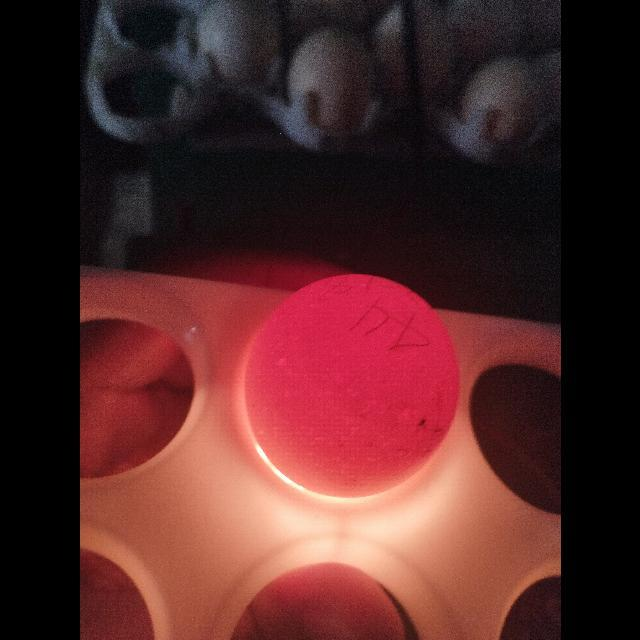Infertile: (242, 270, 463, 502)
